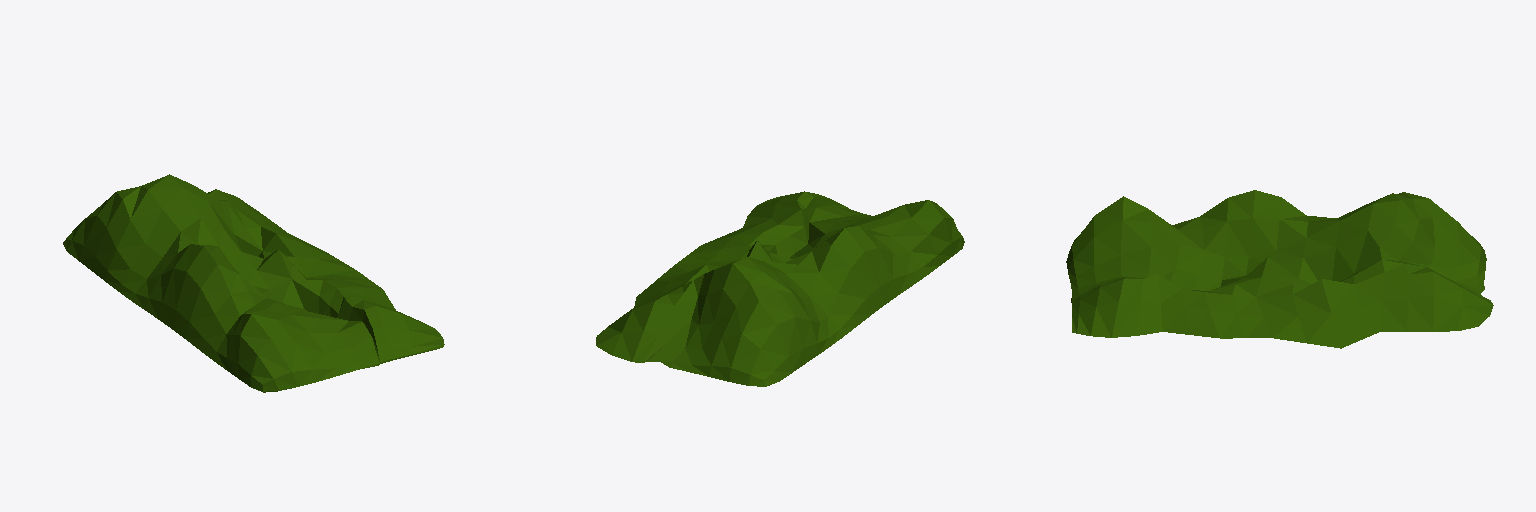
Rendered from Huegel_3.obj.
The picture shows the model from 3 angles: view 1: azimuth 30°, elevation 25°; view 2: azimuth 150°, elevation 25°; view 3: azimuth 270°, elevation 25°; orthographic projection.
Parts seen in each view (by area): view 1: Cube; view 2: Cube; view 3: Cube.
Boxes of the visible parts, x1=… form: Cube: x1=63, y1=174, x2=444, y2=392; Cube: x1=596, y1=191, x2=964, y2=386; Cube: x1=1066, y1=190, x2=1493, y2=348.
Size of the model in its own units: 22.81 by 9.35 by 41.75.